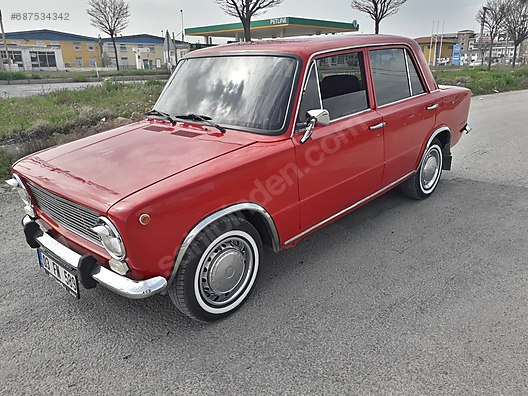murat: (3, 28, 474, 333)
